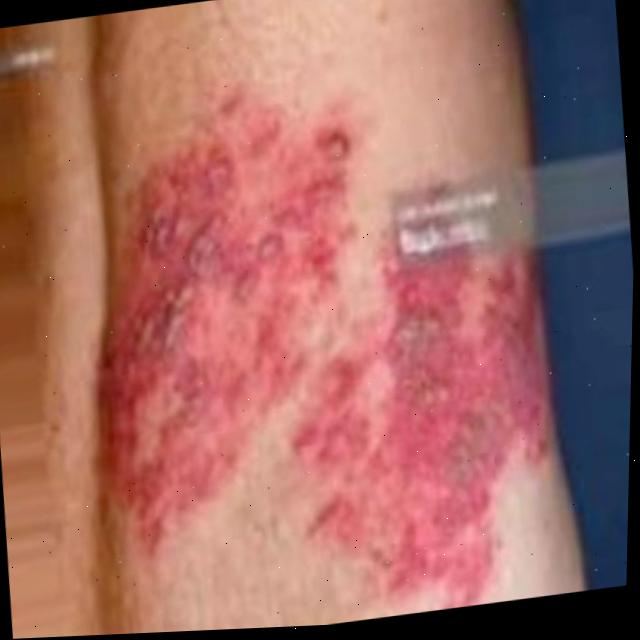Shingles: (77, 134, 346, 526), (390, 275, 554, 552)
